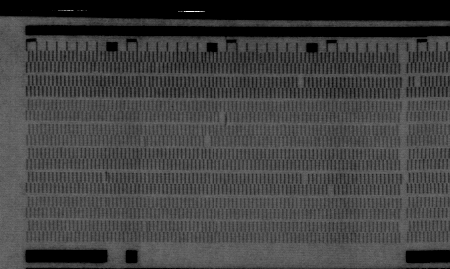Broken hole: (325, 183, 337, 198), (295, 76, 306, 89), (217, 111, 228, 123), (412, 75, 423, 87), (300, 173, 310, 185), (203, 137, 212, 148)
Oblique printing: (99, 172, 112, 185), (138, 135, 149, 147)
